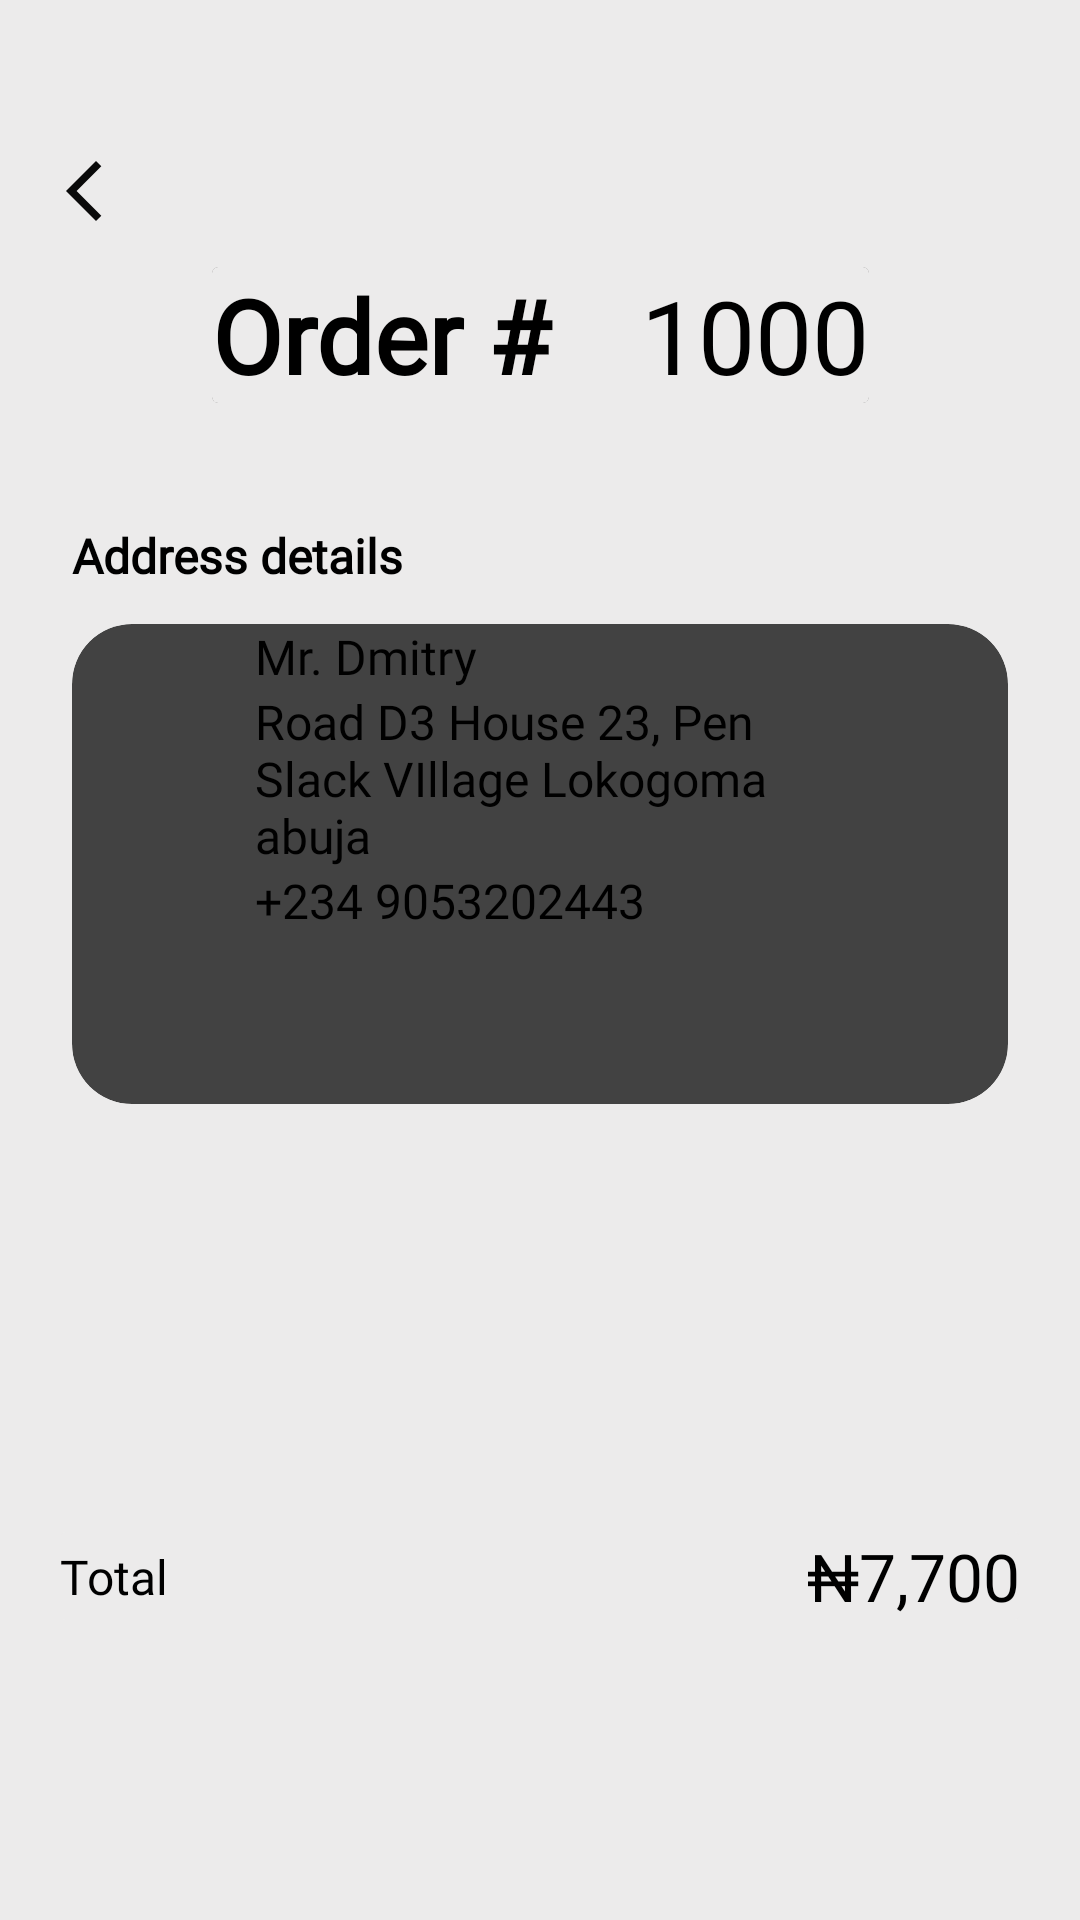

Screen size 1080px×1920px. Icon name, then its center in pixels as [x,y]:
arrow back: [83,191]
